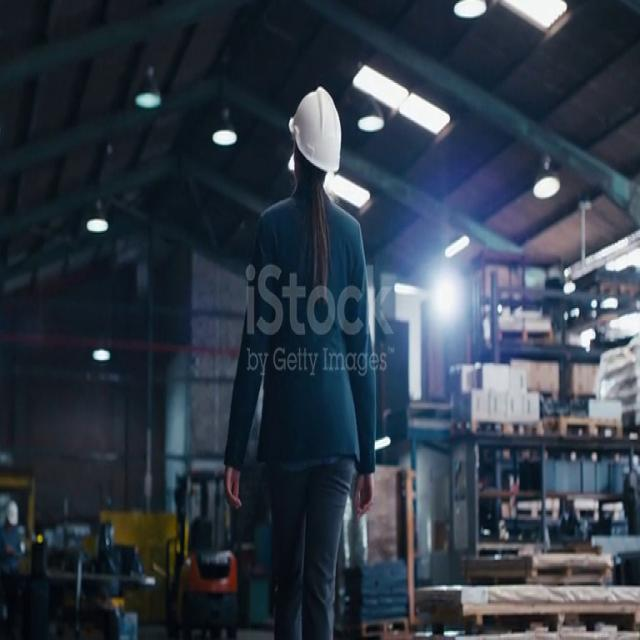capacete: (288, 72, 348, 178)
